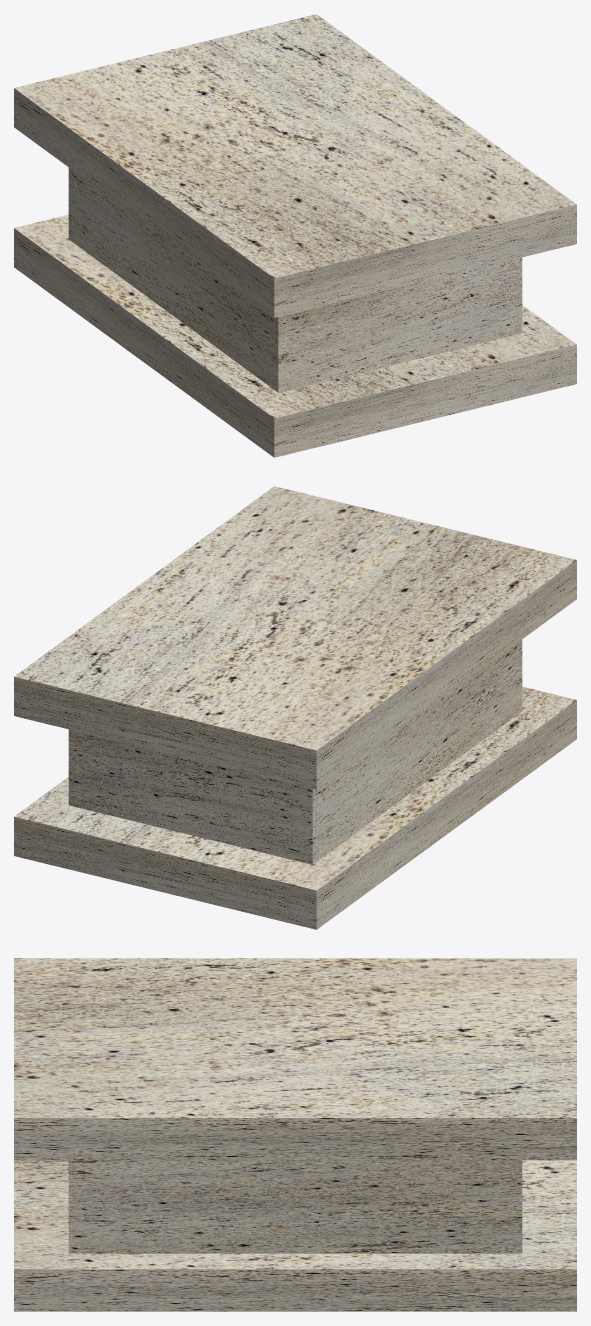
The model's file is Pedestal.fbx.
The picture shows the model from 3 angles, top to bottom: view 1: azimuth 30°, elevation 25°; view 2: azimuth 150°, elevation 25°; view 3: azimuth 270°, elevation 25°; orthographic projection. The views are drawn at different scales.
Parts seen in each view (by area): view 1: Cube.002, Cube, Cube.001; view 2: Cube.002, Cube, Cube.001; view 3: Cube.002, Cube, Cube.001.
Boxes of the visible parts, x1=… form: Cube.002: x1=14, y1=14, x2=576, y2=317; Cube: x1=14, y1=214, x2=576, y2=457; Cube.001: x1=68, y1=167, x2=522, y2=392; Cube.002: x1=14, y1=486, x2=576, y2=789; Cube: x1=14, y1=686, x2=576, y2=929; Cube.001: x1=68, y1=639, x2=522, y2=864; Cube.002: x1=14, y1=958, x2=576, y2=1160; Cube: x1=14, y1=1160, x2=576, y2=1311; Cube.001: x1=68, y1=1160, x2=522, y2=1253.
Bounding box in the file's own units: 5.71 × 3.23 × 8.51.
